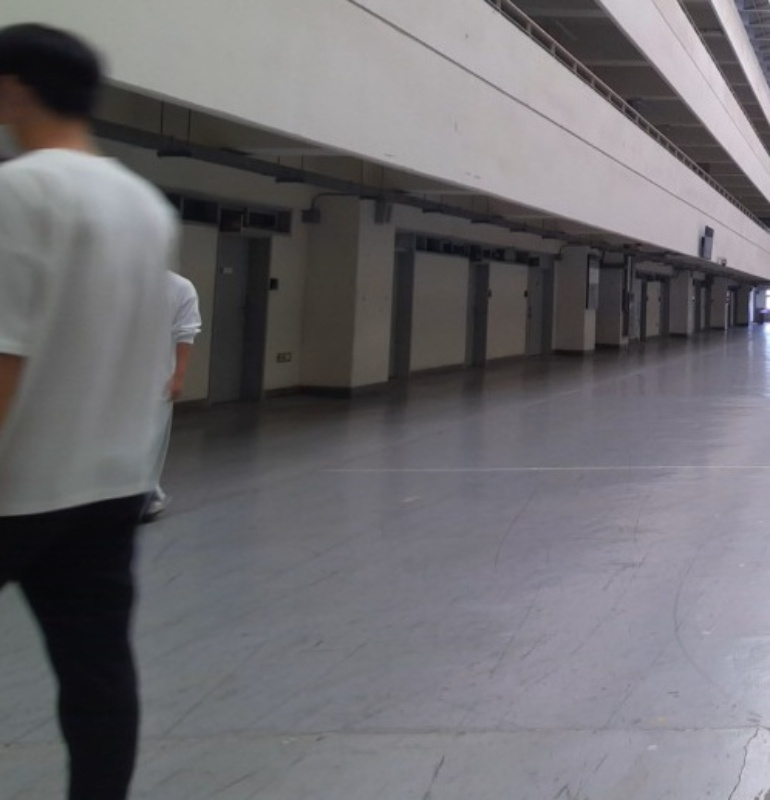person: (0, 20, 179, 800)
